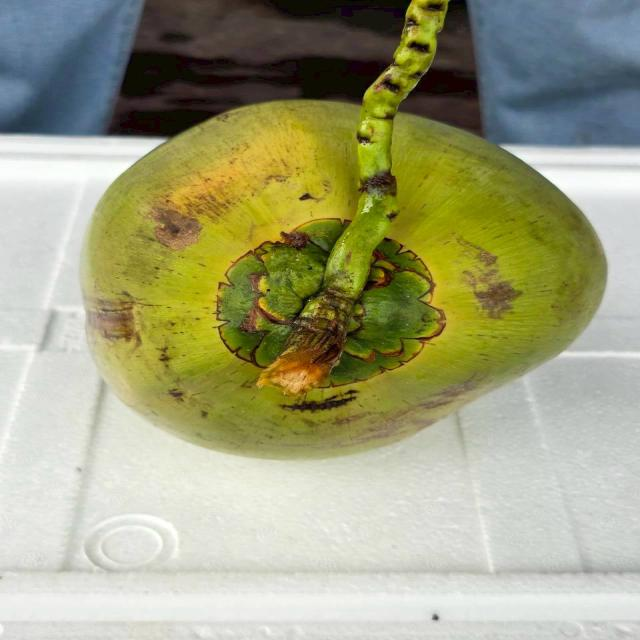coco_2.0: (171, 197, 484, 429)
